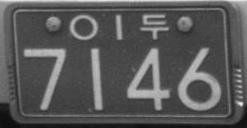0: (69, 13, 99, 41)
1: (78, 48, 117, 110), (105, 14, 132, 40)
4: (126, 47, 170, 111)
6: (176, 48, 222, 110)
7: (23, 48, 66, 111)
두: (139, 13, 168, 40)
